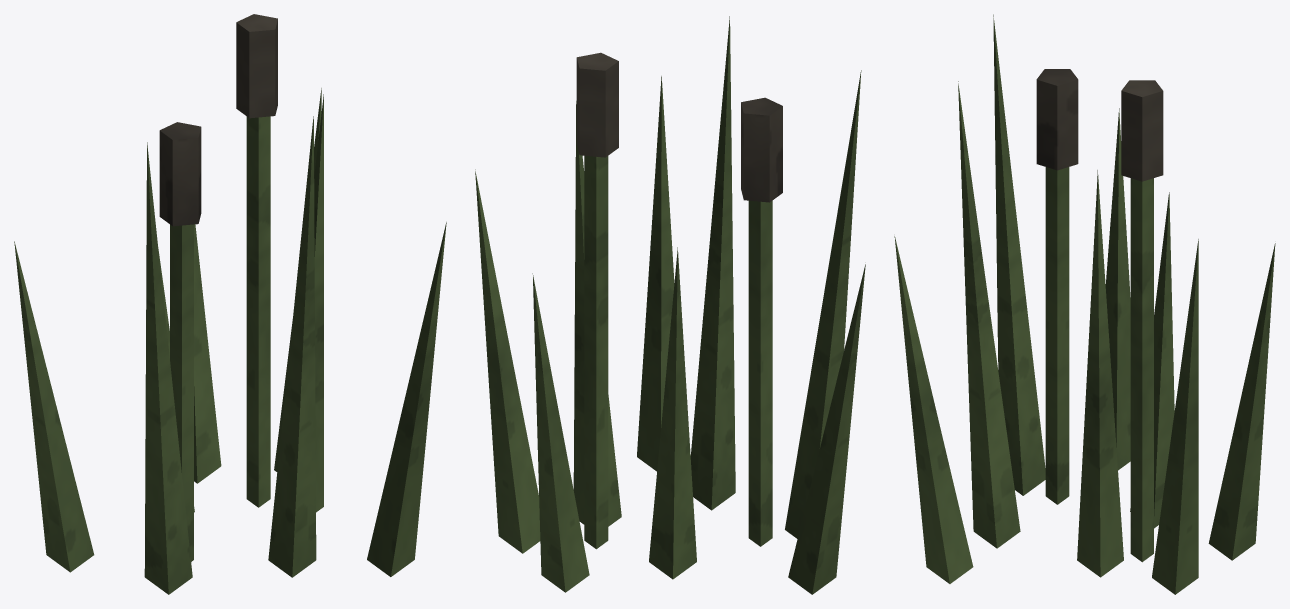
Rendered from reeds_clump.glb.
3 renders of one model, left to right at view 1: azimuth 30°, elevation 25°; view 2: azimuth 150°, elevation 25°; view 3: azimuth 270°, elevation 25°, orthographic. The views are drawn at different scales.
Parts seen in each view (by area): view 1: ReedsClump; view 2: ReedsClump; view 3: ReedsClump.
Part boxes in pixels (box(x1,y1,x2,y2)): ReedsClump: box(14, 14, 446, 594); ReedsClump: box(475, 16, 865, 594); ReedsClump: box(894, 14, 1275, 594).
Bounding box in the file's own units: 0.6496 × 0.854 × 0.6292.
2 materials, 2 textured.
